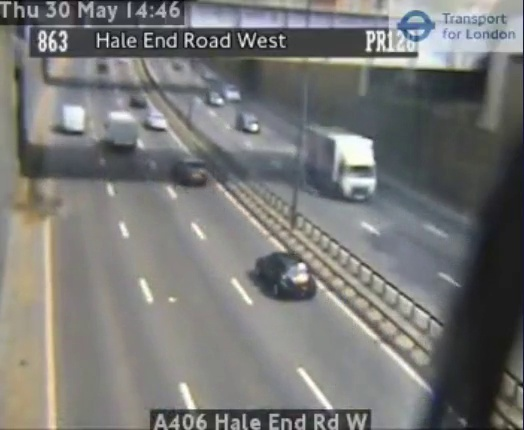car: (258, 253, 315, 297), (173, 159, 208, 184)
van: (108, 112, 135, 145), (62, 106, 84, 130)
